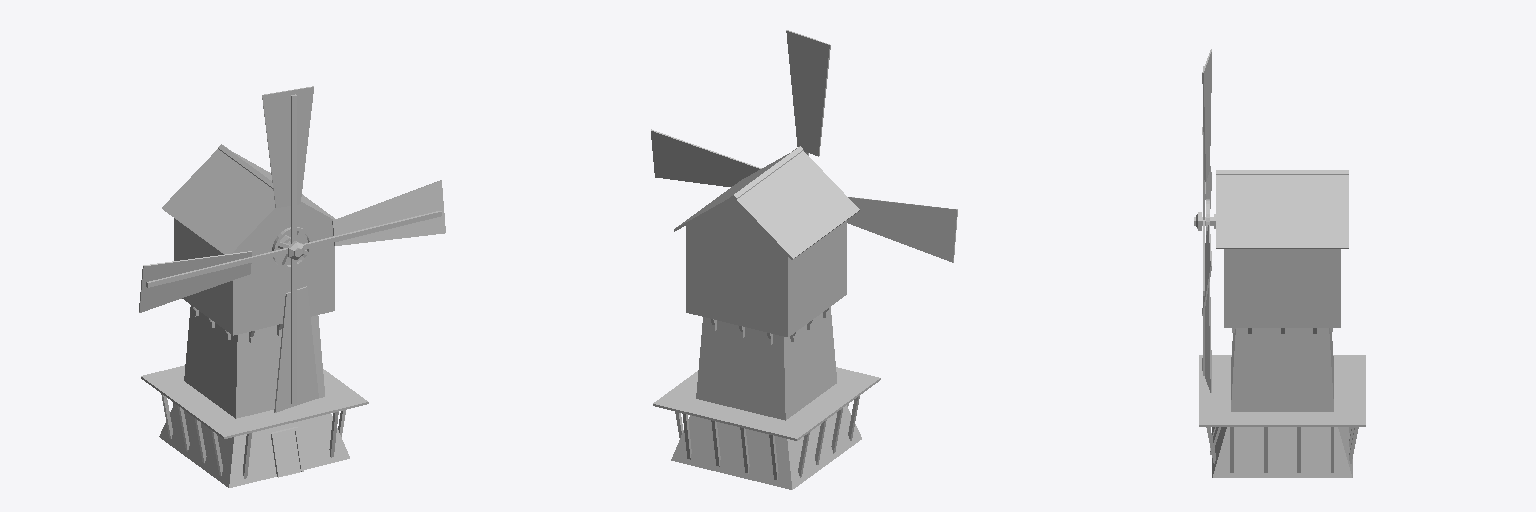
File: mill2_000004.obj
The picture shows the model from 3 angles: view 1: azimuth 30°, elevation 25°; view 2: azimuth 150°, elevation 25°; view 3: azimuth 270°, elevation 25°; orthographic projection.
Parts seen in each view (by area): view 1: Wind_Mill_Cube; view 2: Wind_Mill_Cube; view 3: Wind_Mill_Cube.
Boxes of the visible parts, box(x1,y1,x2,y2) form: Wind_Mill_Cube: box(139, 86, 445, 487); Wind_Mill_Cube: box(651, 30, 957, 489); Wind_Mill_Cube: box(1194, 49, 1365, 477).
Size of the model in its own units: 7.59 by 9.25 by 3.74.